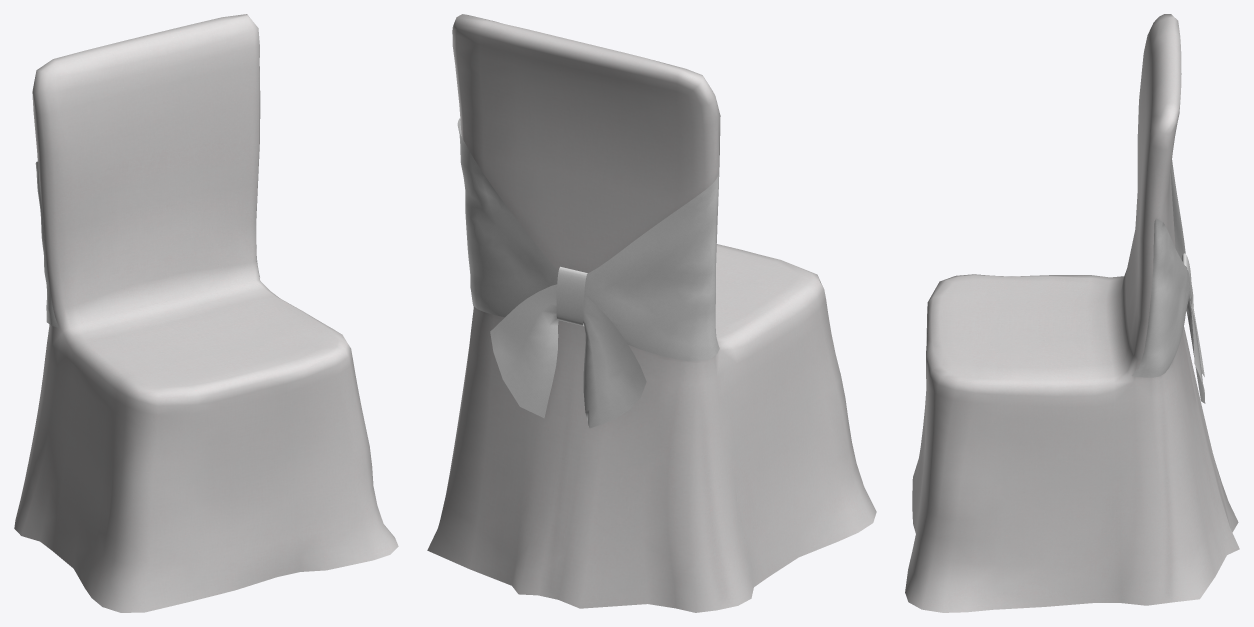
The model's file is EventChair01.FBX.
3 views of the same model, side by side, from view 1: azimuth 30°, elevation 25°; view 2: azimuth 150°, elevation 25°; view 3: azimuth 270°, elevation 25° (orthographic). The views are drawn at different scales.
Visible parts, largest first — view 1: EventChair01; view 2: EventChair01; view 3: EventChair01.
Part boxes in pixels (left/top/right/bottom): EventChair01: left=14, top=14, right=398, bottom=612; EventChair01: left=427, top=14, right=876, bottom=612; EventChair01: left=905, top=14, right=1239, bottom=612.
Size of what is drawn, in the model's own units: 0.7804 by 1.17 by 0.7416.
